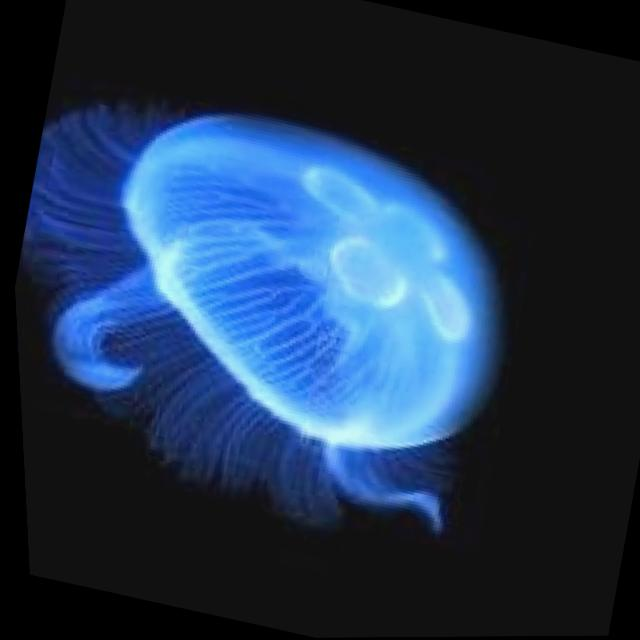Moon-jellyfish: (3, 62, 550, 561)
